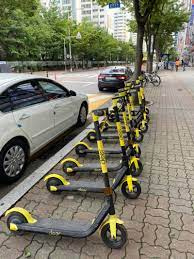kick_board: (5, 109, 127, 248)
kick_body: (34, 220, 92, 234), (69, 181, 113, 191), (80, 164, 115, 172), (90, 148, 120, 155)
kick_handler: (93, 126, 116, 212), (115, 121, 127, 168)
kick_wheel: (101, 222, 129, 250), (5, 209, 28, 234), (45, 174, 65, 194), (121, 179, 142, 198), (61, 158, 78, 175), (129, 156, 142, 175), (74, 143, 87, 157), (133, 129, 144, 142), (87, 129, 95, 142)
